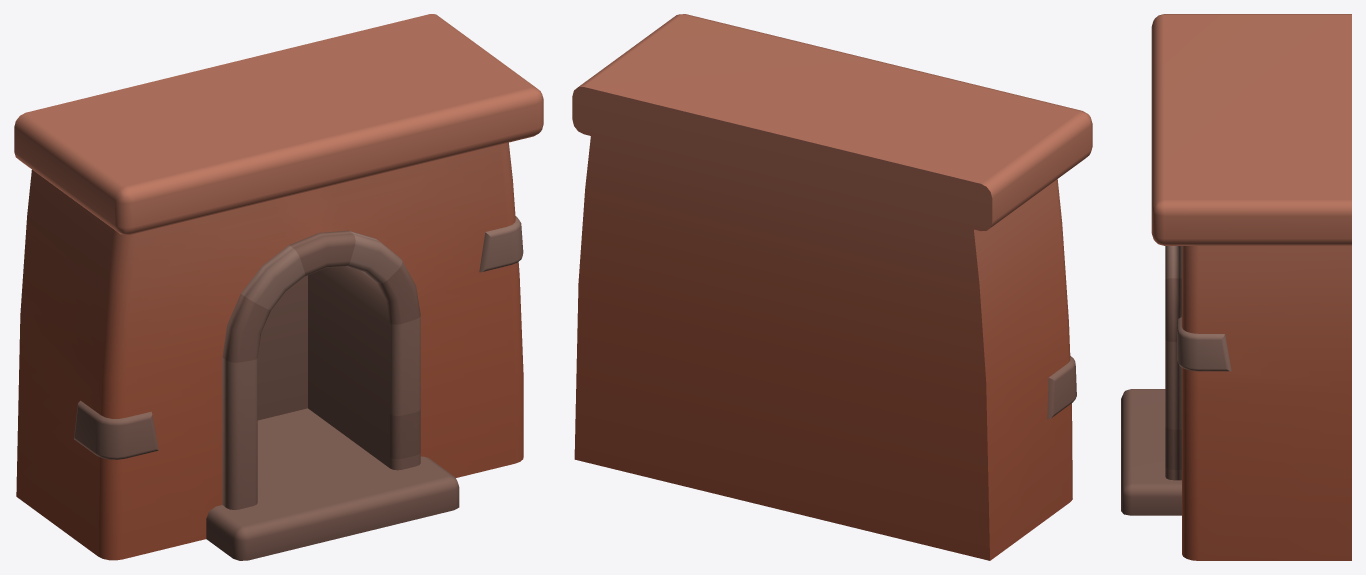
File: Fireplace_01.glb
The picture shows the model from 3 angles, left to right: view 1: azimuth 30°, elevation 25°; view 2: azimuth 150°, elevation 25°; view 3: azimuth 270°, elevation 25°; orthographic projection. The views are drawn at different scales.
Visible parts, largest first — view 1: Fireplace_01; view 2: Fireplace_01; view 3: Fireplace_01.
Boxes of the visible parts, x1,y1,x2,y2 form: Fireplace_01: (14,14,543,560); Fireplace_01: (572,14,1092,560); Fireplace_01: (1121,14,1351,560).
Size of the model in its own units: 1.12 by 0.95 by 0.5564.
1 material, 1 textured.
